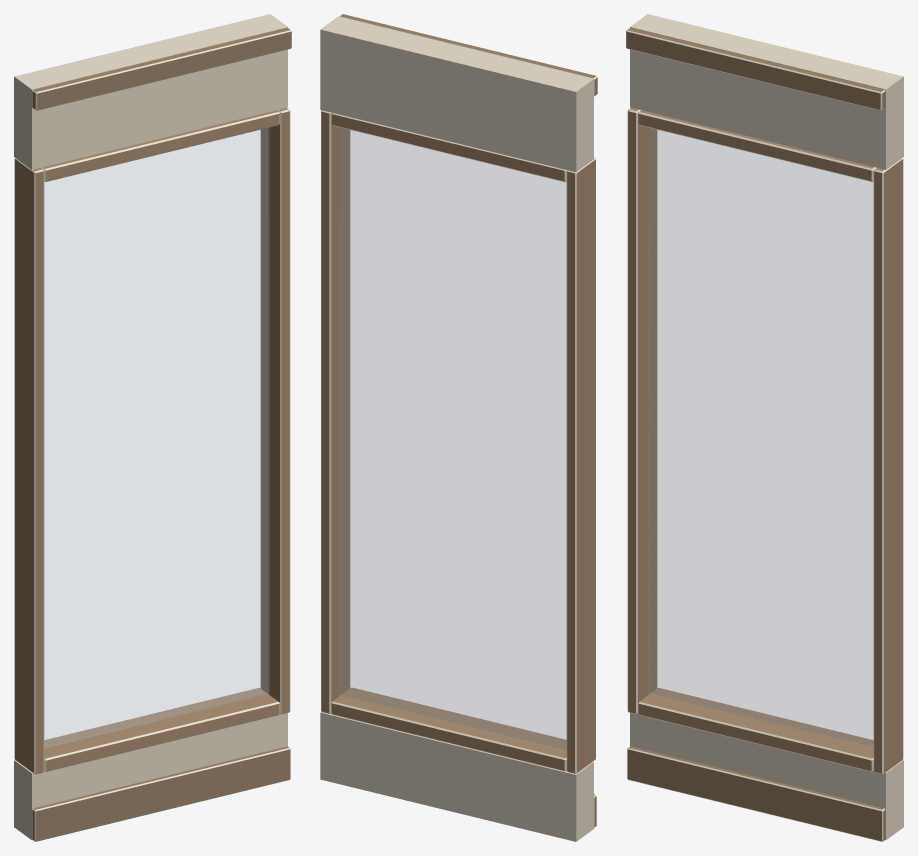
The model's file is ventanal_280.glb.
3 views of the same model, side by side, from view 1: azimuth 30°, elevation 25°; view 2: azimuth 150°, elevation 25°; view 3: azimuth 330°, elevation 25° (orthographic).
Visible parts, largest first — view 1: ventanal_280; view 2: ventanal_280; view 3: ventanal_280.
Boxes of the visible parts, x1,y1,x2,y2 form: ventanal_280: [14, 14, 291, 841]; ventanal_280: [320, 14, 597, 841]; ventanal_280: [626, 14, 903, 841].
Bounding box in the file's own units: 1 × 2.8 × 0.15.
